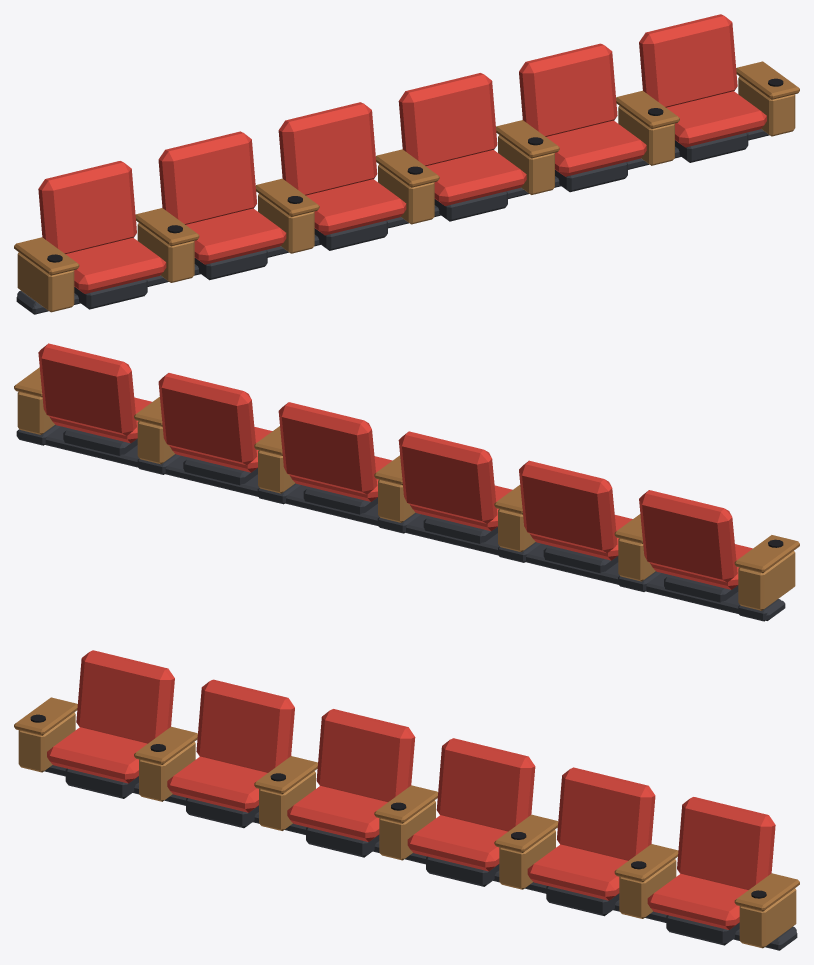
The model's file is seat_row_6.glb.
3 views of the same model, one above another, from view 1: azimuth 30°, elevation 25°; view 2: azimuth 150°, elevation 25°; view 3: azimuth 330°, elevation 25° (orthographic).
Visible parts, largest first — view 1: seat_row_6; view 2: seat_row_6; view 3: seat_row_6.
Part boxes in pixels (x1,y1,x2,y2): seat_row_6: (14,14,799,314); seat_row_6: (14,343,799,621); seat_row_6: (14,650,799,950).
Bounding box in the file's own units: 7.21 × 0.9961 × 0.7773.
